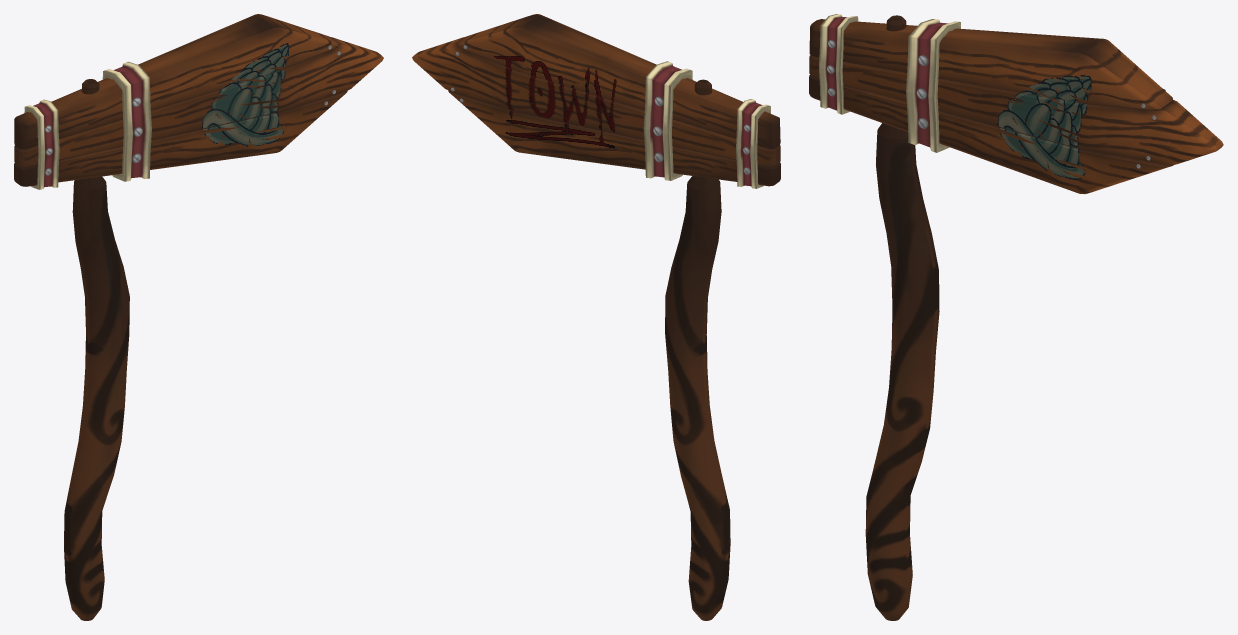
File: Town_Sign_1.glb
3 views of the same model, side by side, from view 1: azimuth 30°, elevation 25°; view 2: azimuth 150°, elevation 25°; view 3: azimuth 330°, elevation 25° (orthographic). The views are drawn at different scales.
Visible parts, largest first — view 1: Plane.002, Cylinder.001, Cube.003, Cube.002; view 2: Plane.002, Cylinder.001, Cube.003, Cube.002; view 3: Plane.002, Cylinder.001, Cube.003, Cube.002.
Part boxes in pixels (x1,y1,x2,y2): Plane.002: [14, 14, 383, 186]; Cylinder.001: [64, 79, 129, 620]; Cube.003: [102, 61, 151, 181]; Cube.002: [24, 99, 59, 189]; Plane.002: [412, 14, 780, 186]; Cylinder.001: [665, 79, 730, 620]; Cube.003: [643, 61, 692, 180]; Cube.002: [736, 99, 770, 188]; Plane.002: [809, 19, 1223, 194]; Cylinder.001: [865, 15, 939, 620]; Cube.003: [906, 19, 960, 152]; Cube.002: [819, 14, 858, 114].
Bounding box in the file's own units: 3.07 × 4.47 × 0.3796.
3 materials, 3 textured.
